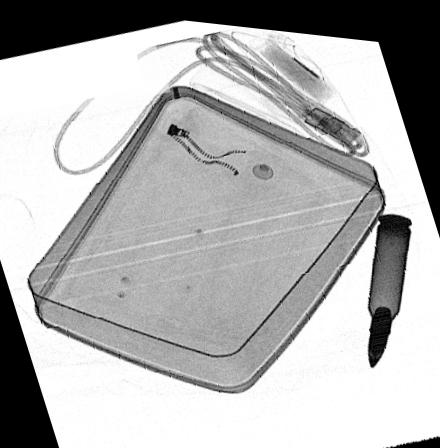Bullet: (367, 203, 414, 361)
